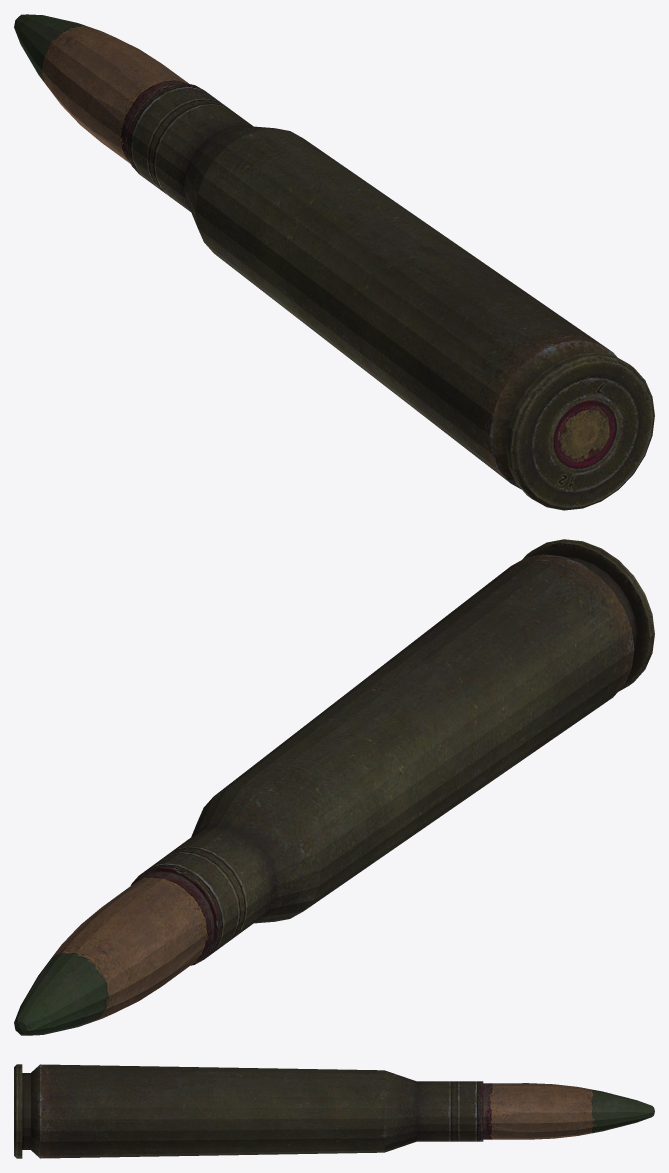
The picture shows the model from 3 angles, top to bottom: view 1: azimuth 30°, elevation 25°; view 2: azimuth 150°, elevation 25°; view 3: azimuth 270°, elevation 25°; orthographic projection. The views are drawn at different scales.
Parts seen in each view (by area): view 1: TW_5d2f2ab648f03550091993ca_PZ_Import; view 2: TW_5d2f2ab648f03550091993ca_PZ_Import; view 3: TW_5d2f2ab648f03550091993ca_PZ_Import.
Boxes of the visible parts, <box> form: TW_5d2f2ab648f03550091993ca_PZ_Import: <box>14,14,654,510</box>; TW_5d2f2ab648f03550091993ca_PZ_Import: <box>14,539,654,1035</box>; TW_5d2f2ab648f03550091993ca_PZ_Import: <box>14,1064,654,1158</box>.
Size of the model in its own units: 0.0126 by 0.0853 by 0.0125.
Materials: 1 (1 with a texture image).
